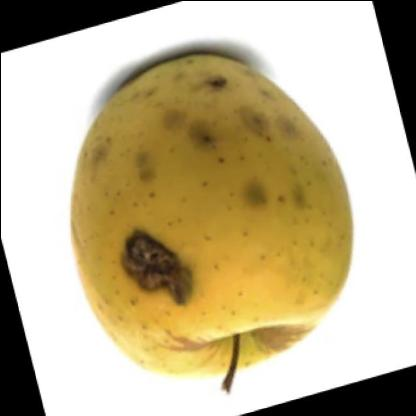defect: (122, 57, 314, 214), (106, 206, 194, 322)
